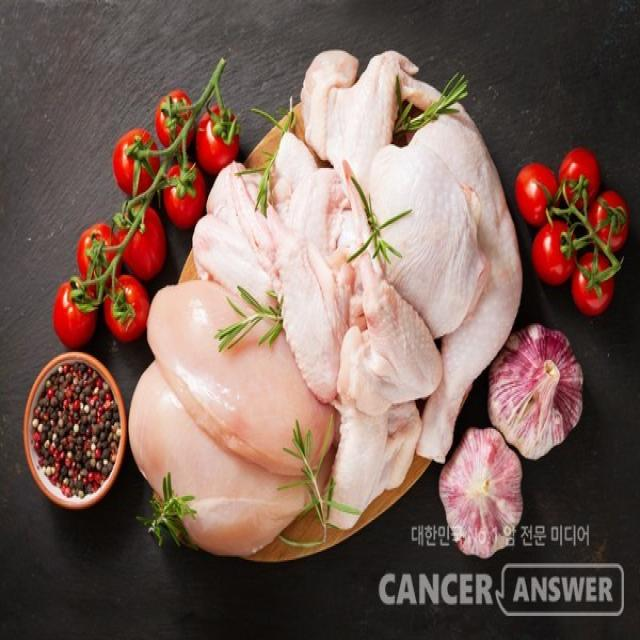chicken: (295, 46, 516, 464), (254, 131, 429, 534), (128, 343, 324, 556), (149, 288, 340, 475)
